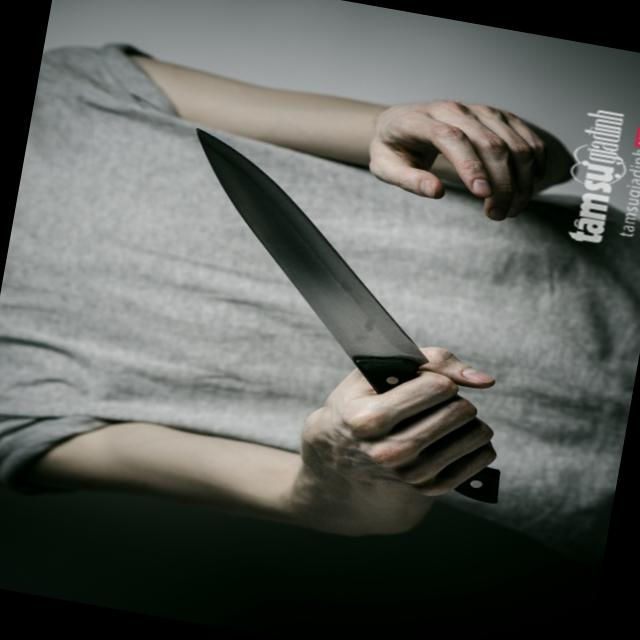knife: (134, 119, 538, 442)
